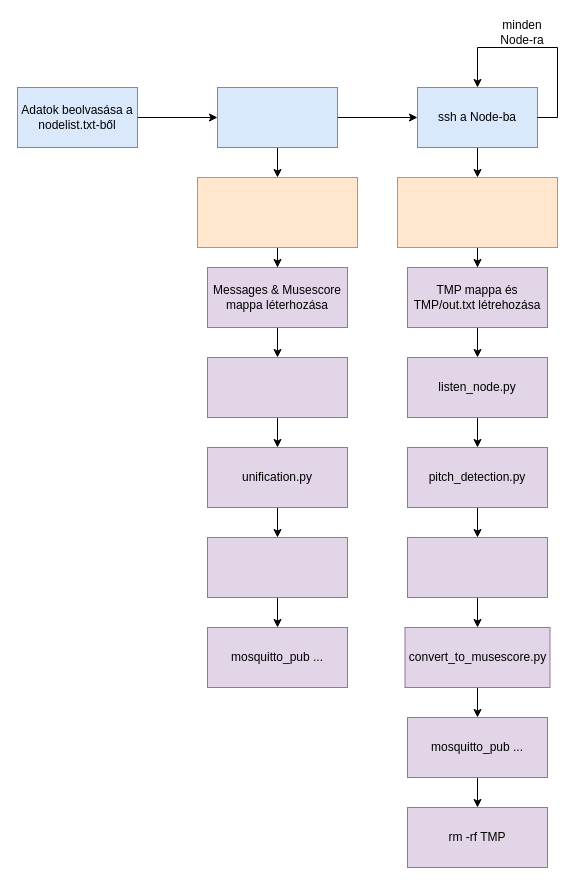
Image size: 583x885. Some labels were removed from this diagram. The centre of each missing label's shape, as x and y in pixels:
./control_node_action.sh: the point at 277,212
./node_action.sh: the point at 477,212
listen_control_node.py: the point at 277,387
process.py: the point at 477,567
rm -rf messages: the point at 277,567
ssh a Control Node-ba: the point at 277,117
